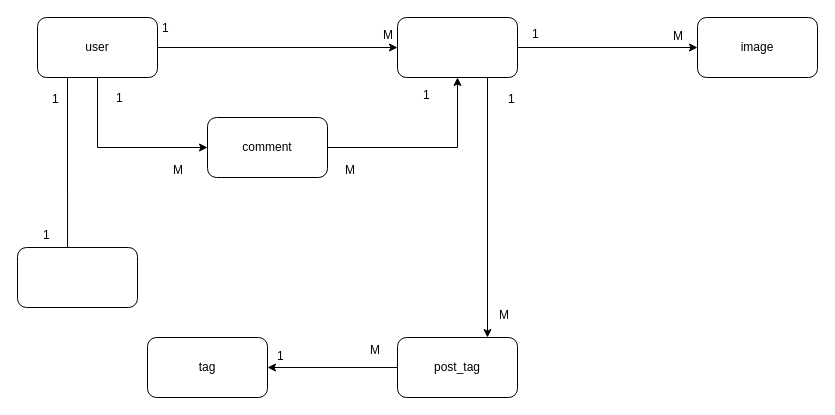
The diagram is 835 pixels wide and 415 high, and some of its shapes have lost their labels. The centre of each missing label's shape, as x and y in pixels:
"post" goes at point (457, 47).
"rank" goes at point (77, 277).
